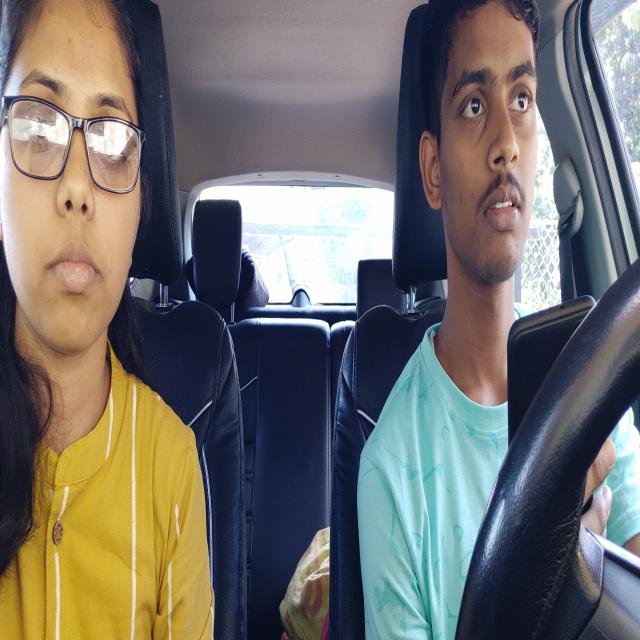mobile: (502, 290, 604, 480)
person: (4, 6, 150, 378), (416, 0, 555, 297)
